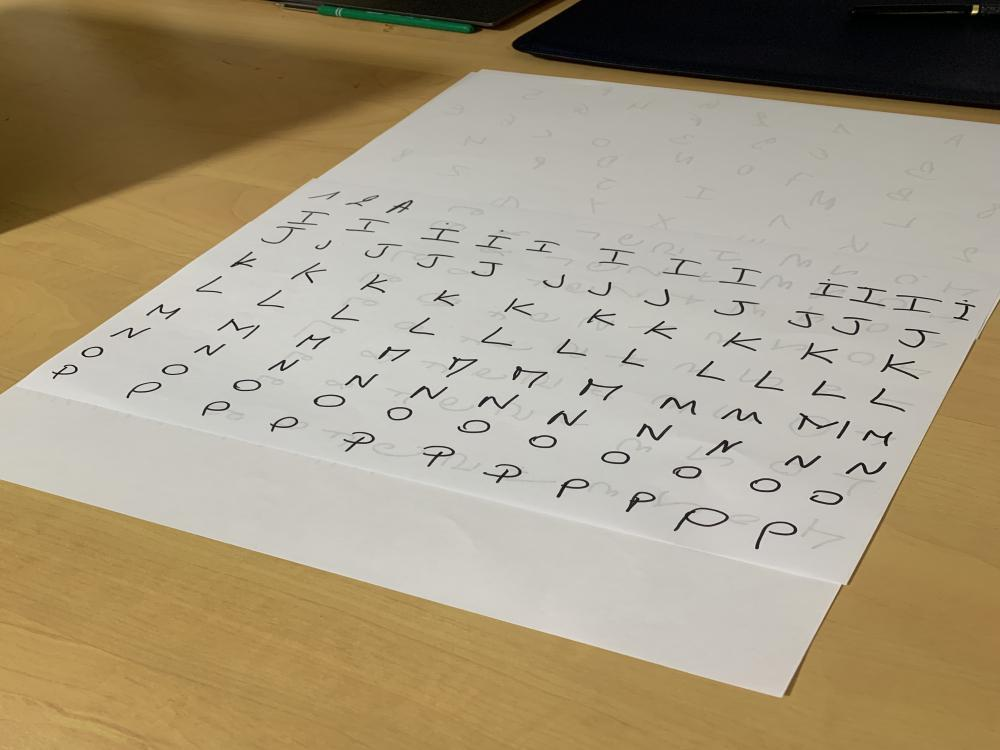0: (808, 488, 844, 505), (457, 419, 492, 434), (527, 434, 559, 450), (671, 464, 703, 480), (748, 477, 782, 492), (600, 450, 631, 465), (232, 378, 262, 392), (314, 394, 346, 407), (388, 406, 414, 421), (161, 364, 190, 376), (80, 346, 105, 358)
1: (307, 190, 342, 201)
2: (346, 195, 380, 208)
A: (386, 200, 415, 214)
I: (892, 293, 942, 314), (718, 266, 761, 287), (852, 286, 888, 309), (596, 246, 637, 266), (663, 258, 703, 278), (420, 226, 461, 244), (344, 217, 389, 232), (809, 282, 849, 298), (288, 210, 329, 225), (950, 301, 976, 322), (476, 235, 511, 250), (526, 240, 560, 253)
J: (259, 225, 306, 245), (830, 315, 873, 335), (711, 300, 759, 317), (787, 310, 825, 328), (365, 242, 403, 258), (416, 254, 456, 269), (470, 261, 504, 278), (643, 288, 673, 307), (542, 273, 566, 289), (588, 282, 614, 296), (314, 239, 334, 250)
K: (880, 353, 920, 380), (798, 342, 838, 364), (722, 332, 763, 352), (900, 328, 940, 348), (290, 262, 328, 283), (642, 319, 677, 340), (503, 297, 535, 316), (360, 274, 388, 294), (586, 308, 617, 326), (432, 290, 461, 308), (230, 250, 258, 268)
L: (870, 387, 907, 413), (810, 380, 848, 400), (480, 326, 515, 347), (754, 370, 786, 392), (696, 360, 725, 382), (555, 338, 588, 357), (329, 304, 362, 322), (619, 348, 648, 368), (194, 276, 224, 294), (409, 317, 437, 336), (258, 290, 285, 308)
M: (798, 412, 850, 440), (577, 378, 624, 402), (216, 318, 260, 339), (718, 408, 764, 426), (444, 356, 479, 379), (657, 397, 699, 416), (513, 366, 549, 388), (147, 303, 182, 321), (862, 429, 894, 447), (297, 334, 332, 350), (376, 346, 411, 362)
N: (546, 410, 588, 426), (478, 394, 520, 409), (846, 460, 888, 474), (637, 424, 673, 440), (408, 385, 449, 399), (704, 441, 742, 456), (784, 454, 822, 468), (110, 326, 152, 338), (344, 374, 379, 388), (267, 359, 300, 371), (194, 343, 226, 355)
P: (753, 520, 800, 550), (674, 507, 730, 532), (624, 490, 658, 514), (482, 464, 522, 483), (422, 446, 456, 468), (340, 432, 376, 452), (126, 382, 164, 400), (556, 478, 590, 498), (200, 400, 232, 418), (269, 415, 299, 433), (52, 364, 78, 380)
